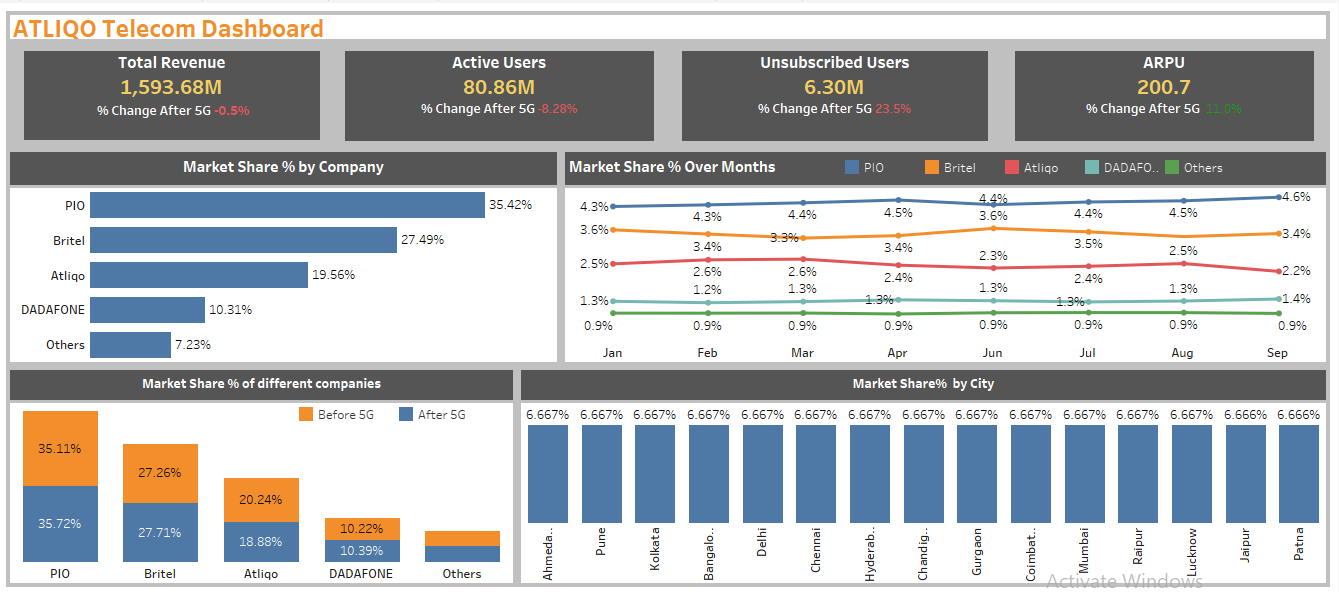

This screenshot's page, from the dashboard's own definition file:
{"tool":"tableau","page":{"name":"Dashboard 3","canvas":[1000,1000],"units":"permille","ordinal":2},"visuals":[{"type":"title","box":[6,13.5,988.1,54.1]},{"type":"worksheet","title":"Revenue","mark":"Automatic","box":[6,67.6,242.8,177.5]},{"type":"worksheet","title":"AU","mark":"Automatic","box":[248.8,67.6,250.6,177.5]},{"type":"worksheet","title":"USU","mark":"Text","box":[499.4,67.6,250.8,177.5]},{"type":"worksheet","title":"ARPU","mark":"Automatic","box":[750.2,67.6,243.9,177.5]},{"type":"worksheet","title":"Market share by company","mark":"Automatic","rows":["company"],"box":[6,245.1,414.2,368.1]},{"type":"worksheet","title":"Market share by month","mark":"Line","rows":["ms_pct"],"cols":["month_name"],"box":[420.2,245.1,573.8,368.1]},{"type":"legend","title":"Market share by month","param":"[federated.09lxh2o0y9f70t17g6btb0fhgqdw].[none:company:nk]","box":[629.9,260.1,350,45.6]},{"type":"worksheet","title":"Market share by company 5G","mark":"Automatic","cols":["company"],"box":[6,613.2,381.3,373.3]},{"type":"worksheet","title":"Market share by month (2)","mark":"Bar","rows":["ms_pct"],"cols":["city_name"],"box":[387.2,613.2,606.8,373.3]},{"type":"legend","title":"Market share by company 5G","param":"[federated.09lxh2o0y9f70t17g6btb0fhgqdw].[none:before/after_5g:nk]","box":[222.4,677.4,153.7,38.9]}]}

Visuals, with their boxes on the dashboard's canvas, which has no fixed pixel size, in thousandths of its width and height (x1, y1, x2, y2). These are canvas units, not pixel positions in the 1339x592 screenshot, which may show the page scaled, cropped or inside an application window:
title: (6,14,994,68)
"Revenue" worksheet: (6,68,249,245)
"AU" worksheet: (249,68,499,245)
"USU" worksheet (Text marks): (499,68,750,245)
"ARPU" worksheet: (750,68,994,245)
"Market share by company" worksheet: (6,245,420,613)
"Market share by month" worksheet (Line marks): (420,245,994,613)
"Market share by month" legend: (630,260,980,306)
"Market share by company 5G" worksheet: (6,613,387,986)
"Market share by month (2)" worksheet (Bar marks): (387,613,994,986)
"Market share by company 5G" legend: (222,677,376,716)
